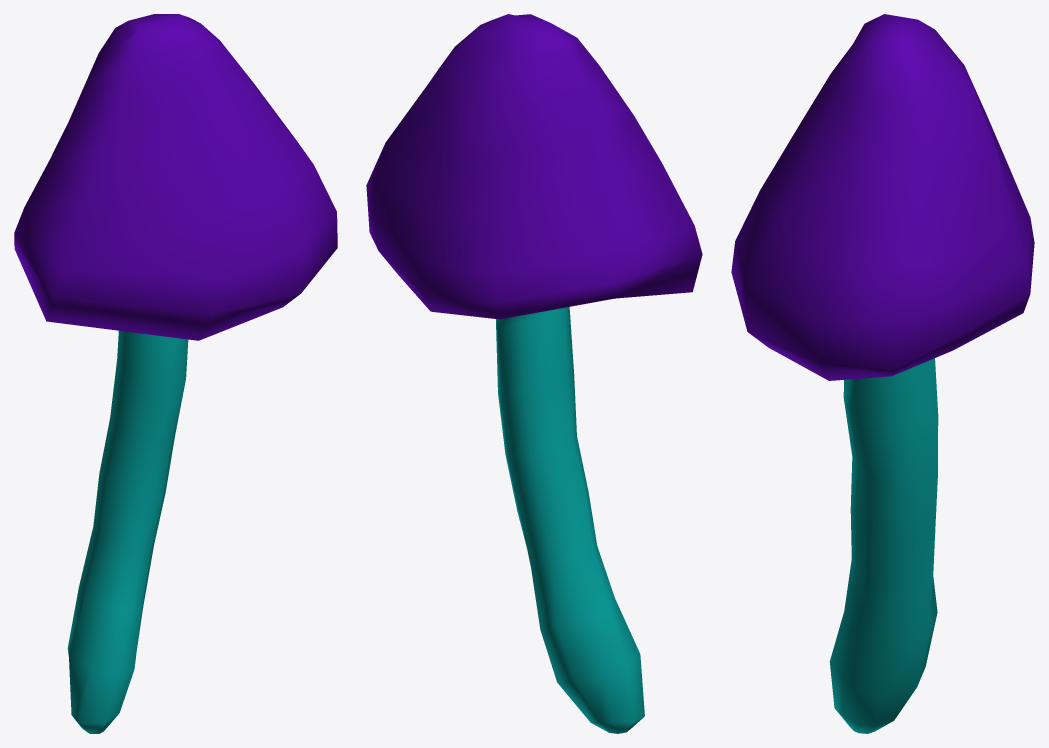
Rendered from HongoDecorativo4_LOWPOLY.fbx.
The picture shows the model from 3 angles, left to right: view 1: azimuth 30°, elevation 25°; view 2: azimuth 150°, elevation 25°; view 3: azimuth 270°, elevation 25°; orthographic projection. The views are drawn at different scales.
Visible parts, largest first — view 1: HongoDecorativo4_LOWPOLY:HongoDecorativo4_LOW; view 2: HongoDecorativo4_LOWPOLY:HongoDecorativo4_LOW; view 3: HongoDecorativo4_LOWPOLY:HongoDecorativo4_LOW.
Boxes of the visible parts, x1,y1,x2,y2 form: HongoDecorativo4_LOWPOLY:HongoDecorativo4_LOW: [14, 14, 337, 733]; HongoDecorativo4_LOWPOLY:HongoDecorativo4_LOW: [366, 14, 702, 733]; HongoDecorativo4_LOWPOLY:HongoDecorativo4_LOW: [731, 14, 1034, 733].
Bounding box in the file's own units: 57.5 × 128 × 47.07.
